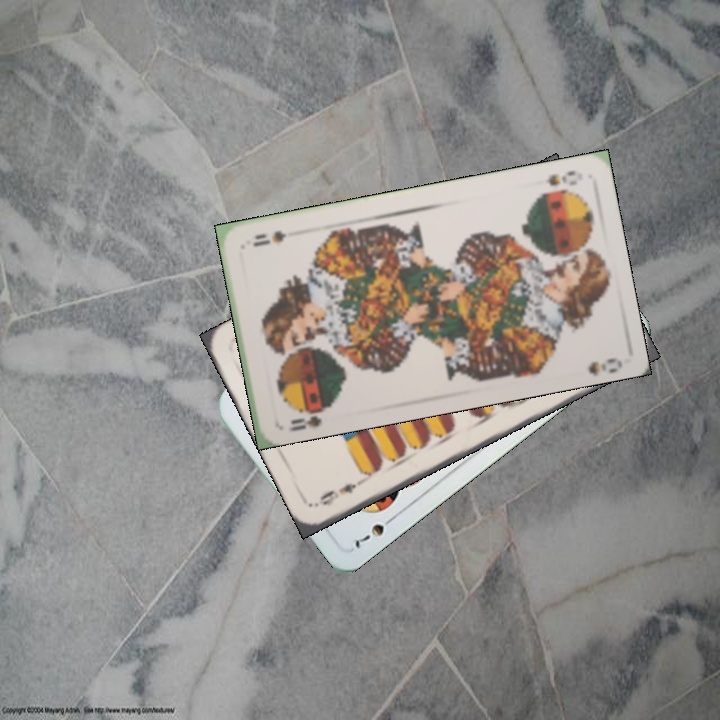E9: (315, 474, 368, 509)
S7: (350, 511, 399, 550)
SO: (284, 399, 335, 434), (541, 166, 579, 189)
